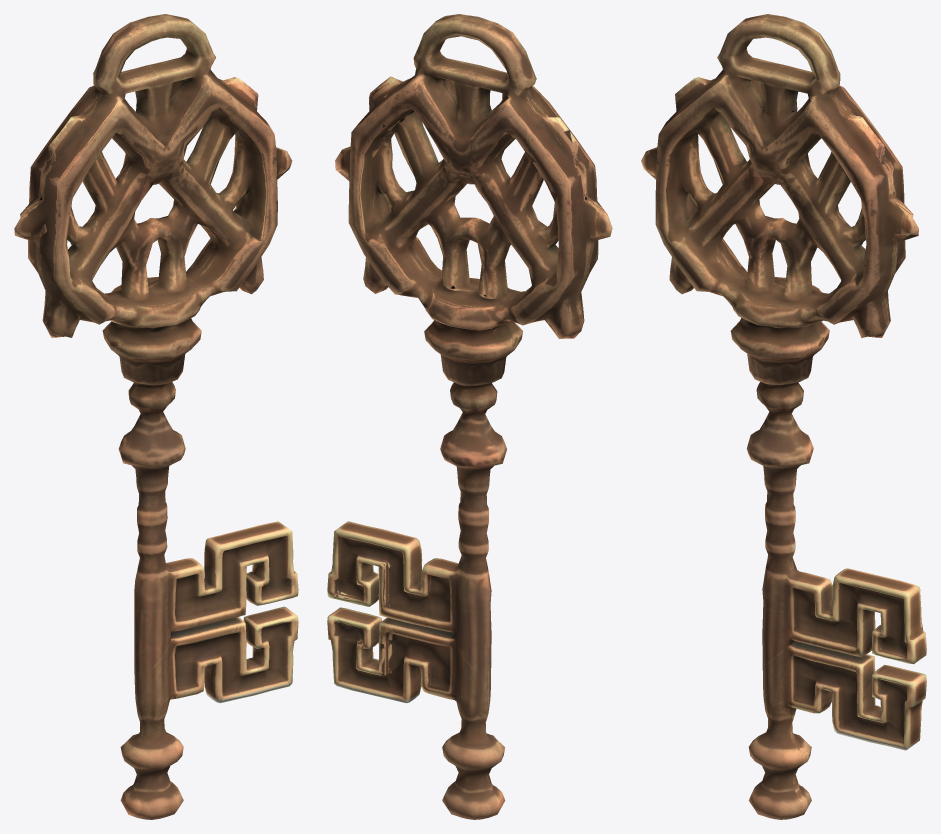
Rendered from KeyGold.glb.
The picture shows the model from 3 angles, left to right: view 1: azimuth 30°, elevation 25°; view 2: azimuth 150°, elevation 25°; view 3: azimuth 330°, elevation 25°; orthographic projection.
Parts seen in each view (by area): view 1: key bronze; view 2: key bronze; view 3: key bronze.
Boxes of the visible parts, <box> form: key bronze: <box>14,14,298,819</box>; key bronze: <box>327,14,612,819</box>; key bronze: <box>641,14,926,819</box>.
Size of the model in its own units: 0.1171 by 0.3208 by 0.0339.
Materials: 1 (1 with a texture image).
